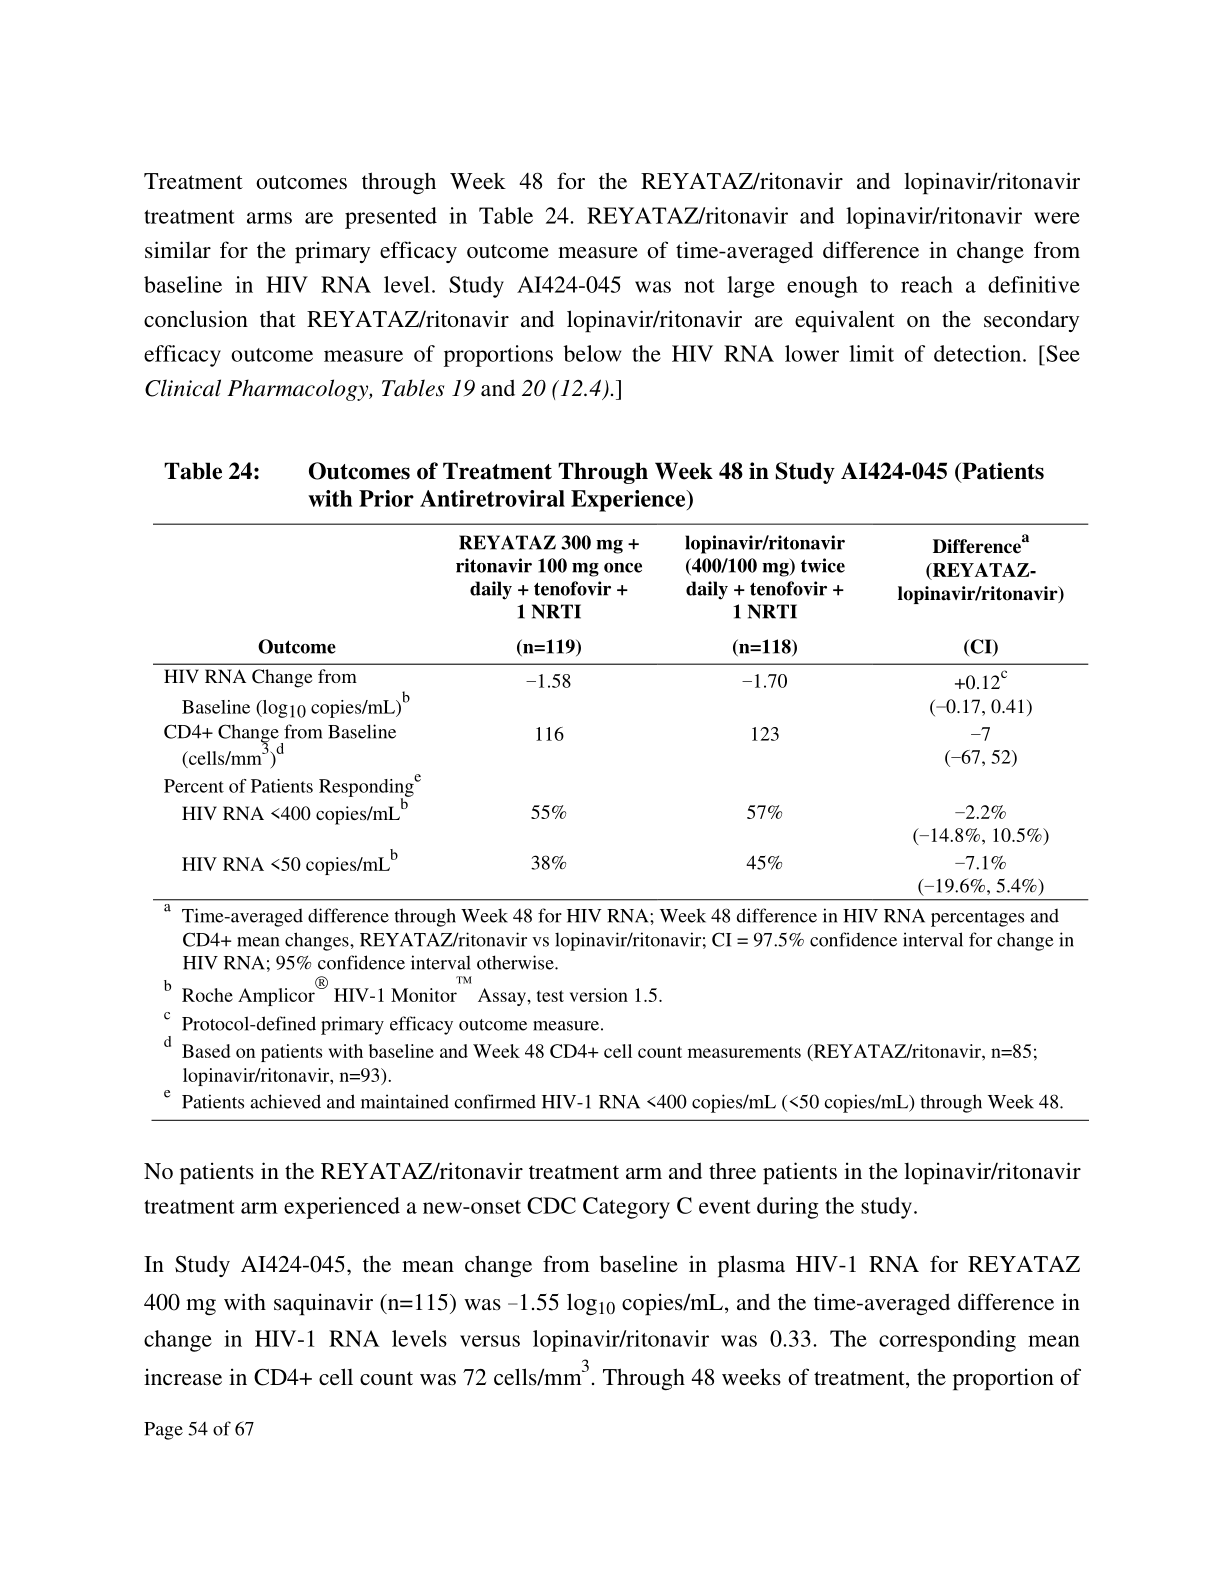partial_lined: (152, 521, 1090, 903)
